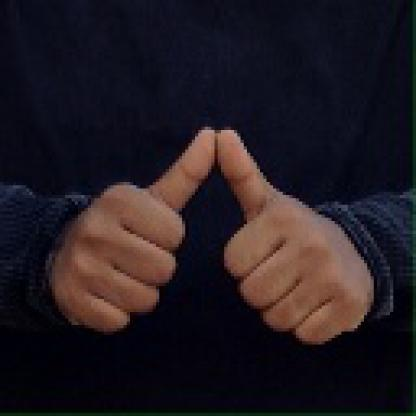A: (49, 123, 368, 348)
